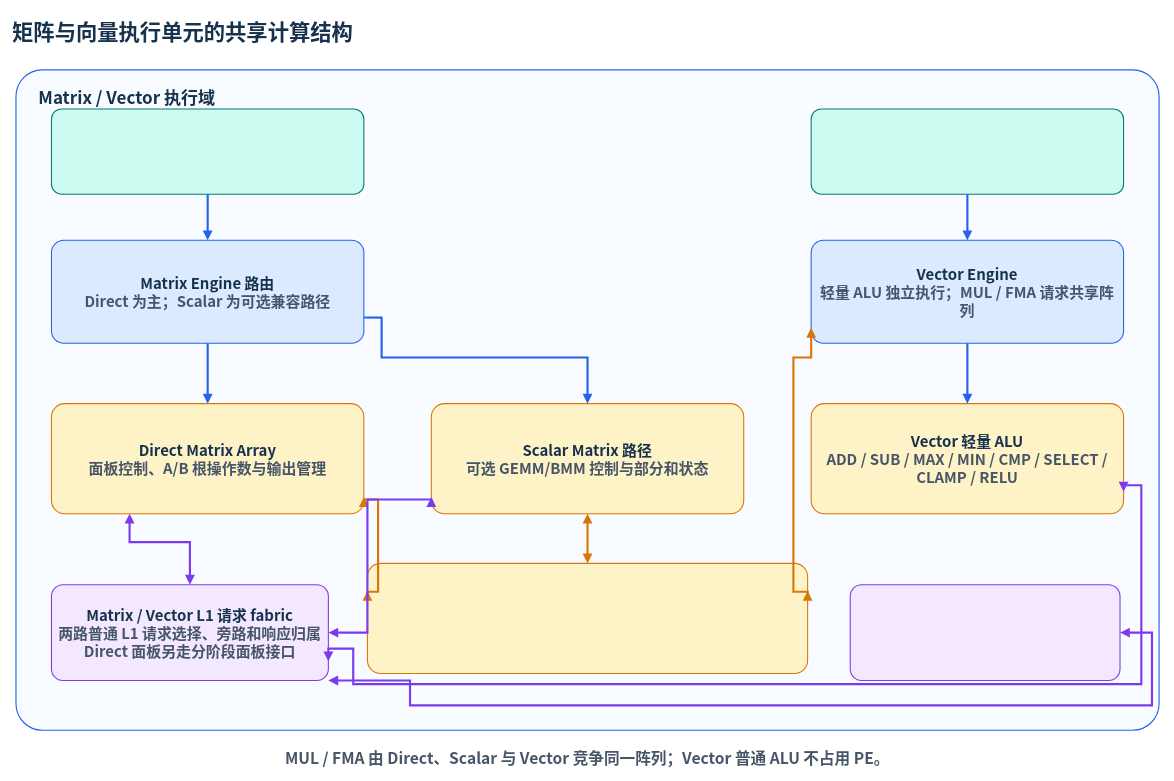
Some shapes in this 1174 by 781 pixel diagram are drawn without their labels. Here are the shapes that lost their labels. From the top down, the box of each, then its label:
(51, 108, 364, 194): Matrix 任务接口 GEMM / BMM / Direct 等命令
(810, 108, 1124, 194): Vector 任务接口 逐元素操作、MUL / FMA
(367, 563, 808, 674): 共享可重构 PE 阵列 4 个物理 PE；每 PE 8 个 4×8 乘法叶 逻辑 step 分四相位；A/B 各有深度 2 FIFO
(849, 584, 1120, 681): L1BUF 七个普通客户端与独立 Direct 面板通路
